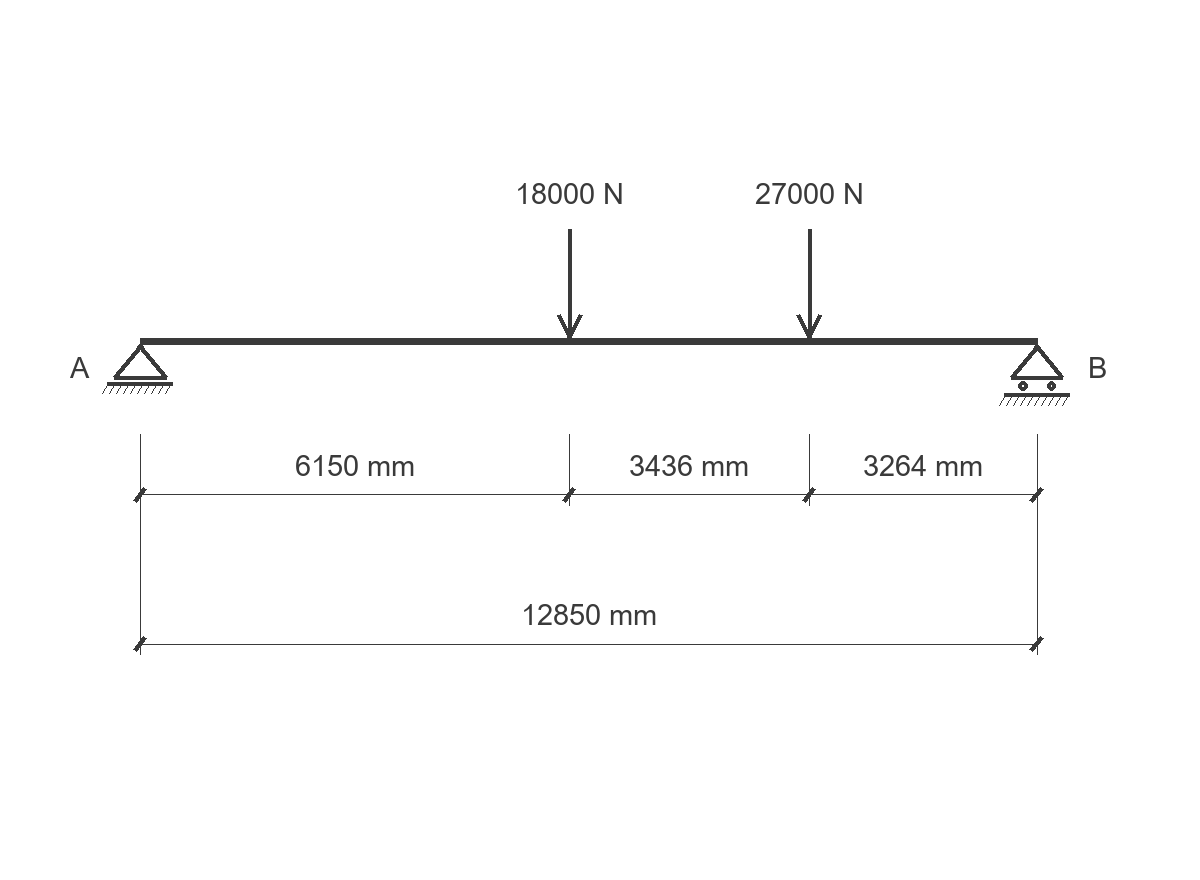pin_support: (102, 344, 173, 394)
point_load: (557, 229, 583, 339), (796, 229, 822, 339)
roller_support: (999, 344, 1070, 406)
